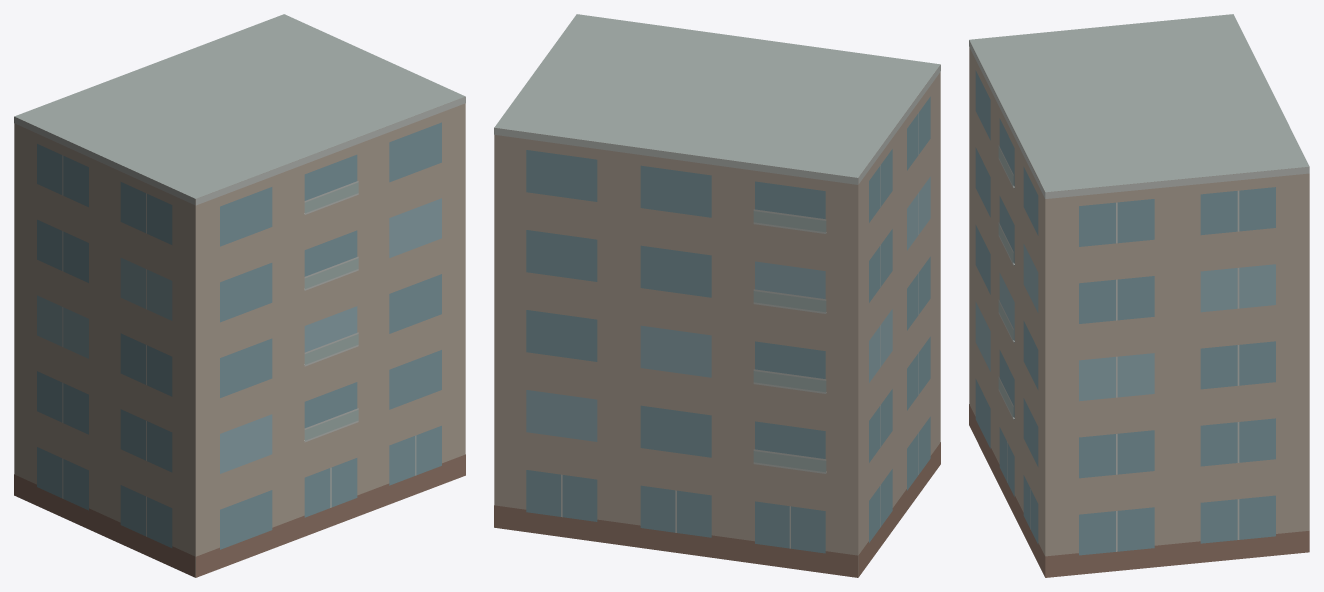
Rendered from survey-upis-32698343.glb.
The picture shows the model from 3 angles, left to right: view 1: azimuth 30°, elevation 25°; view 2: azimuth 150°, elevation 25°; view 3: azimuth 270°, elevation 25°; orthographic projection. The views are drawn at different scales.
Parts seen in each view (by area): view 1: survey-upis-32698343.tmp; view 2: survey-upis-32698343.tmp; view 3: survey-upis-32698343.tmp.
Part boxes in pixels (box(x1,y1,x2,y2)): survey-upis-32698343.tmp: box(14, 14, 465, 577); survey-upis-32698343.tmp: box(494, 14, 940, 577); survey-upis-32698343.tmp: box(969, 14, 1309, 577).
Bounding box in the file's own units: 13.7 × 13.8 × 11.06.
